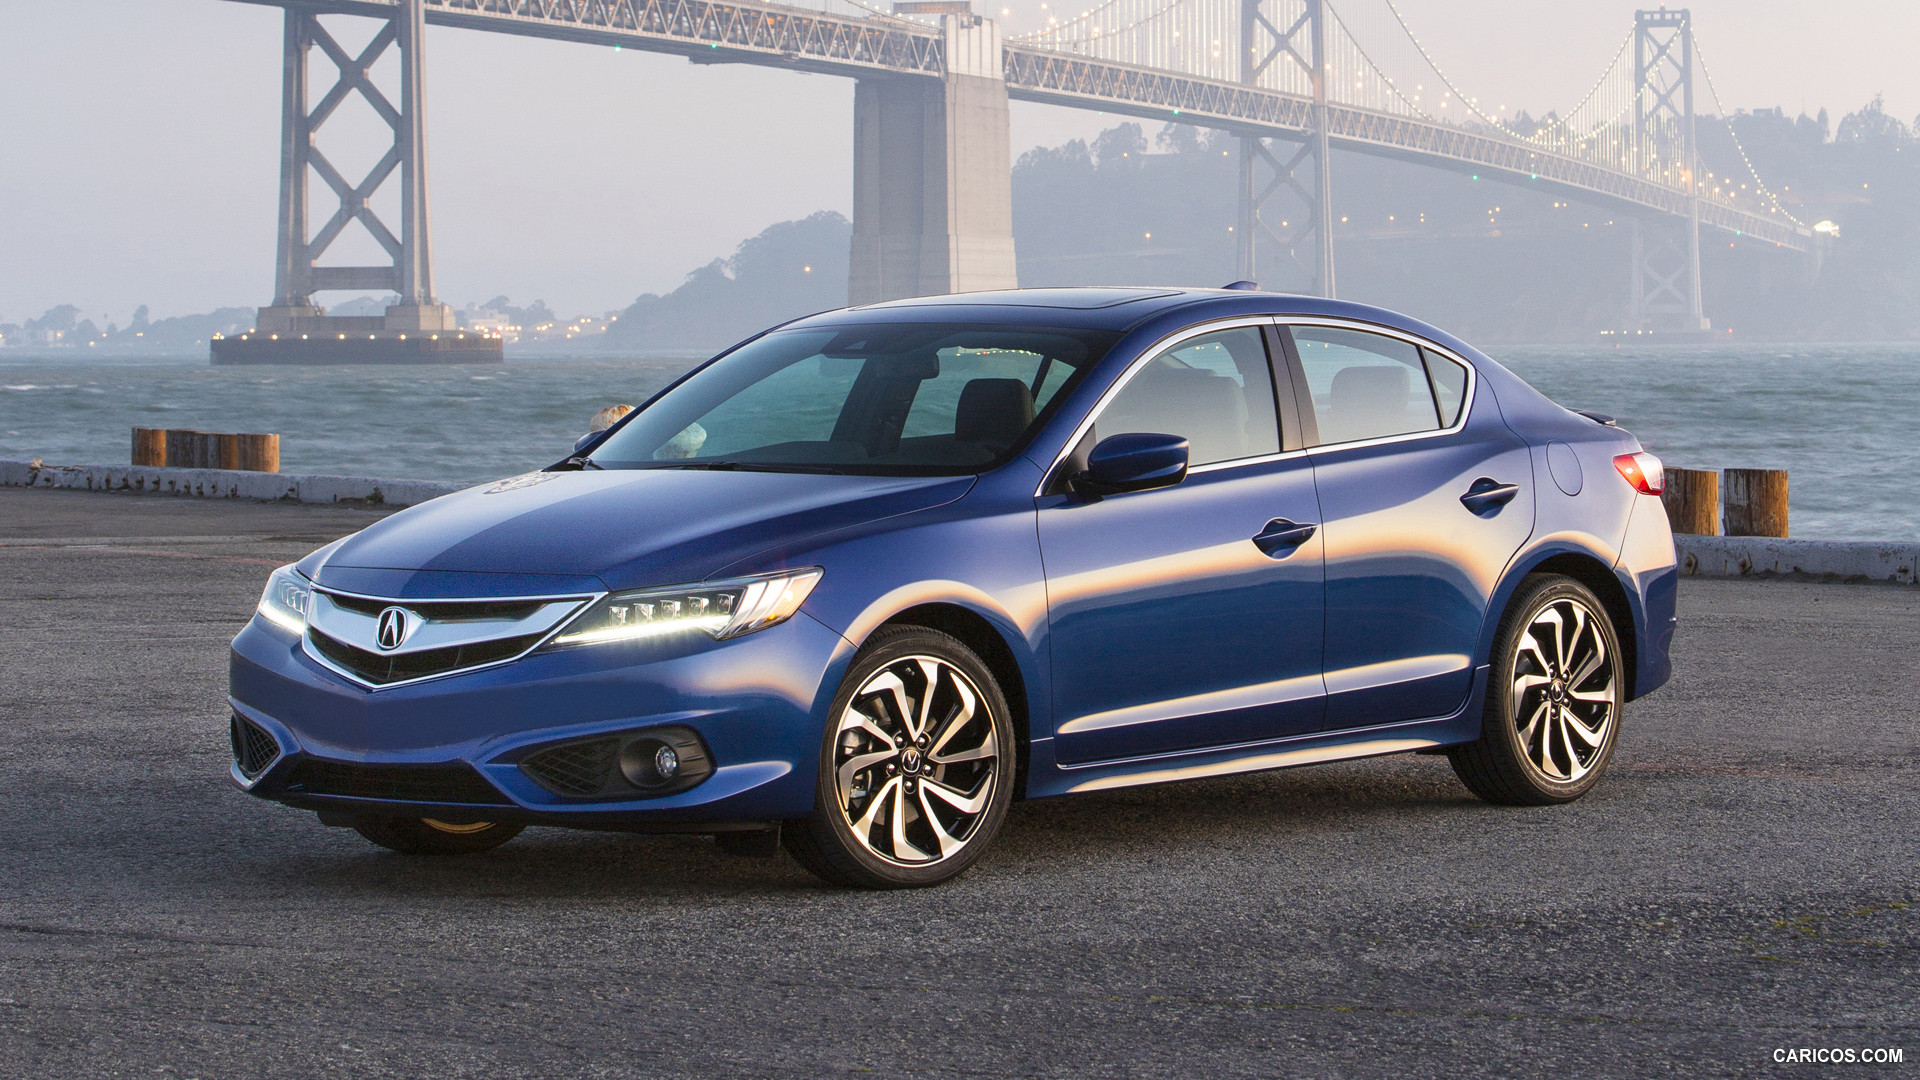Fog Lamp & Scope: (518, 729, 716, 802)
Front: (232, 484, 934, 814)
Front Bumper: (218, 687, 825, 823)
Grill: (293, 597, 563, 684)
Headlight: (556, 564, 829, 647)
